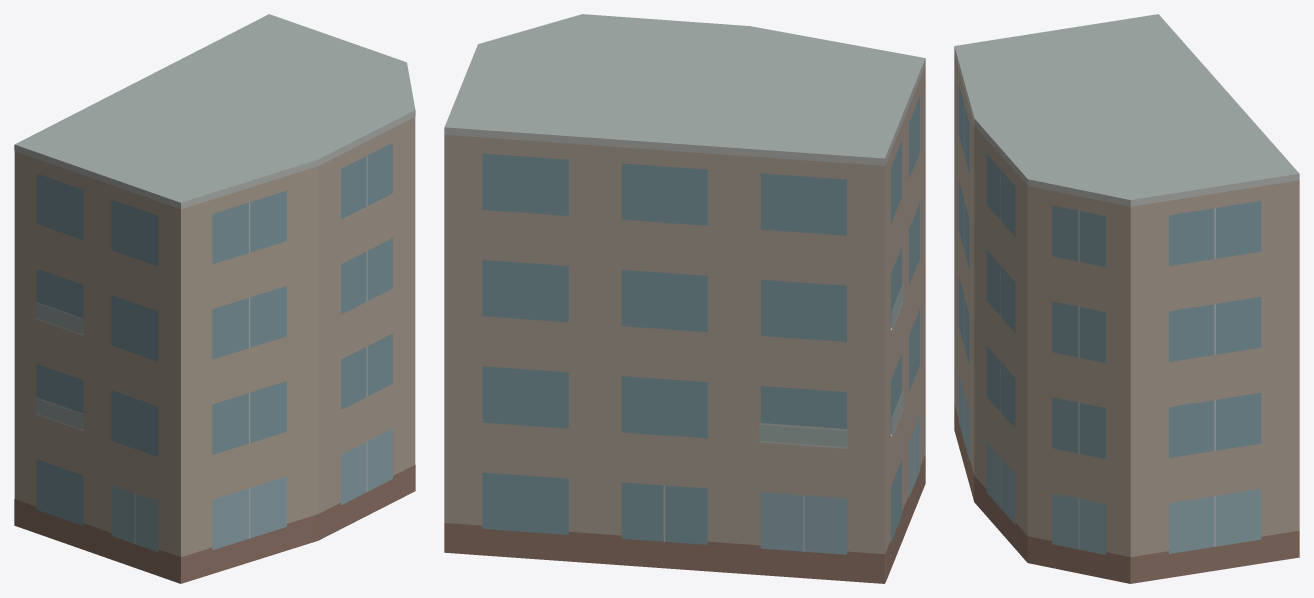
Rendered from survey-upis-33015812.glb.
3 views of the same model, side by side, from view 1: azimuth 30°, elevation 25°; view 2: azimuth 150°, elevation 25°; view 3: azimuth 270°, elevation 25° (orthographic). The views are drawn at different scales.
Parts seen in each view (by area): view 1: survey-upis-33015812.tmp; view 2: survey-upis-33015812.tmp; view 3: survey-upis-33015812.tmp.
Boxes of the visible parts, bbox=[...] form: survey-upis-33015812.tmp: bbox=[14, 14, 415, 583]; survey-upis-33015812.tmp: bbox=[444, 14, 925, 583]; survey-upis-33015812.tmp: bbox=[954, 14, 1299, 583].
Bounding box in the file's own units: 14.56 × 14 × 11.42.
